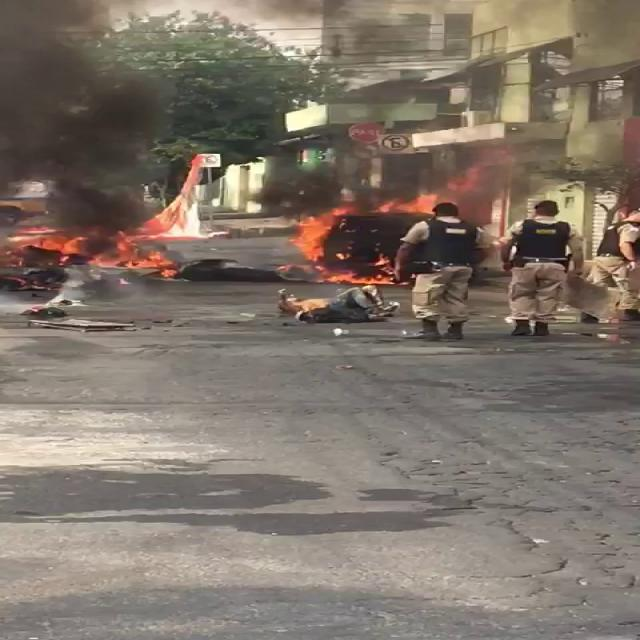Fire: (92, 153, 220, 277), (278, 194, 436, 284), (5, 219, 100, 302)
